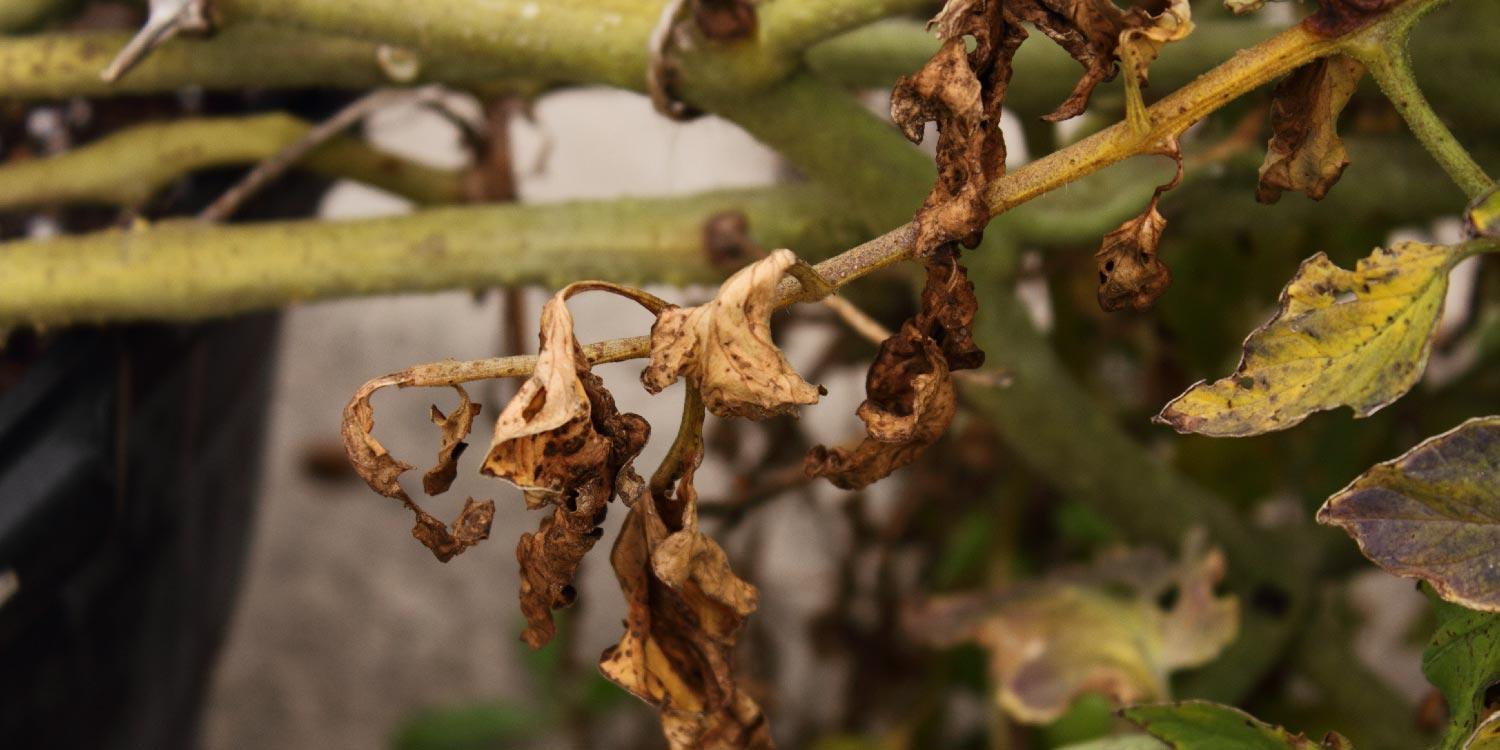Verticillium wilt: (481, 290, 648, 647), (600, 464, 773, 749), (341, 358, 533, 561), (641, 249, 822, 419), (1257, 57, 1364, 202), (1096, 197, 1170, 311)
